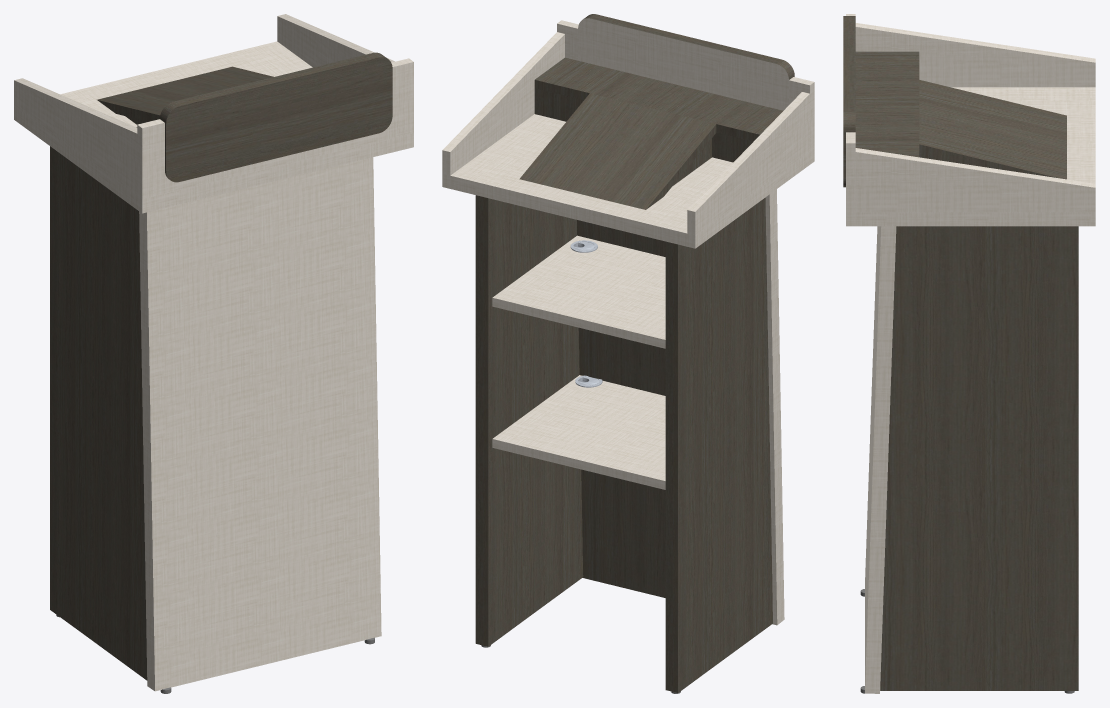
Rendered from mimbar-doang.glb.
3 views of the same model, side by side, from view 1: azimuth 30°, elevation 25°; view 2: azimuth 150°, elevation 25°; view 3: azimuth 270°, elevation 25° (orthographic). The views are drawn at different scales.
Parts seen in each view (by area): view 1: Geom3D_ (×7), Geom3D_Component#22_15370046368; view 2: Geom3D_ (×12), Geom3D (×2), Geom3D_Component#22_15370046368 (×2); view 3: Geom3D_ (×8), Geom3D_Component#22_15370046368 (×2).
Boxes of the visible parts, box(x1,y1,x2,y2) form: Geom3D_ (×7): box(14, 14, 413, 691); Geom3D_Component#22_15370046368: box(97, 66, 273, 115); Geom3D_ (×12): box(442, 14, 814, 692); Geom3D (×2): box(577, 18, 788, 597); Geom3D_Component#22_15370046368 (×2): box(519, 93, 716, 209); Geom3D_ (×8): box(843, 14, 1095, 693); Geom3D_Component#22_15370046368 (×2): box(919, 80, 1066, 179).
Bounding box in the file's own units: 0.6 × 1.25 × 0.495.
5 materials, 4 textured.
